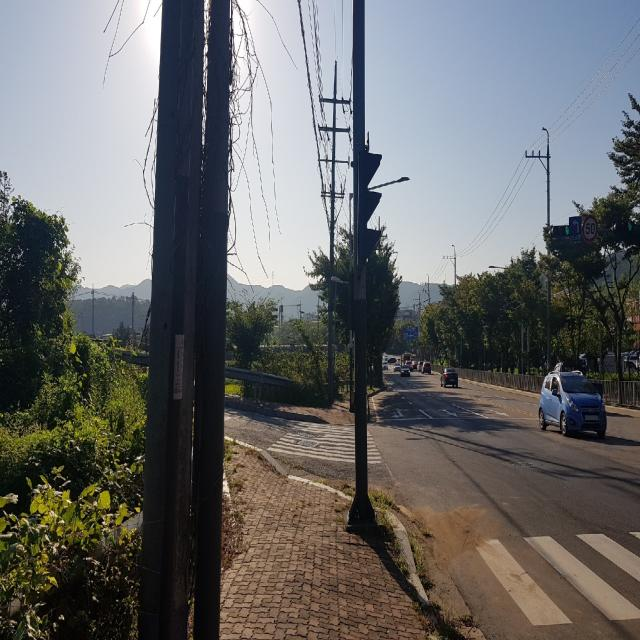횡단보도: (446, 528, 640, 626), (266, 420, 386, 465)
